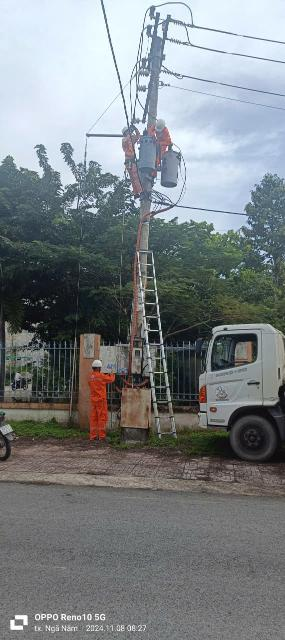harness: (118, 157, 140, 168)
helmet: (155, 115, 168, 133), (89, 355, 104, 369), (116, 124, 136, 134)
shoes: (138, 193, 148, 202), (101, 435, 111, 441), (133, 193, 141, 199), (90, 436, 99, 441)
